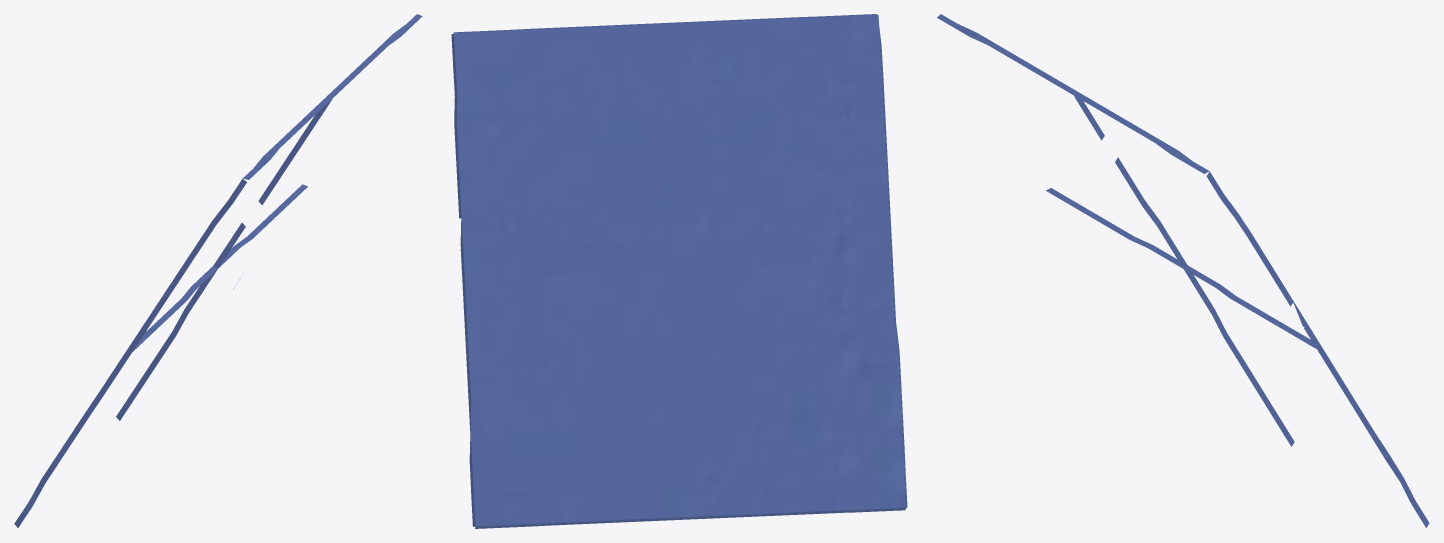
3 views of the same model, side by side, from view 1: azimuth 30°, elevation 25°; view 2: azimuth 150°, elevation 25°; view 3: azimuth 270°, elevation 25° (orthographic). The views are drawn at different scales.
Size of the model in its own units: 157686 by 137200 by 145147.
1 material, 1 textured.
